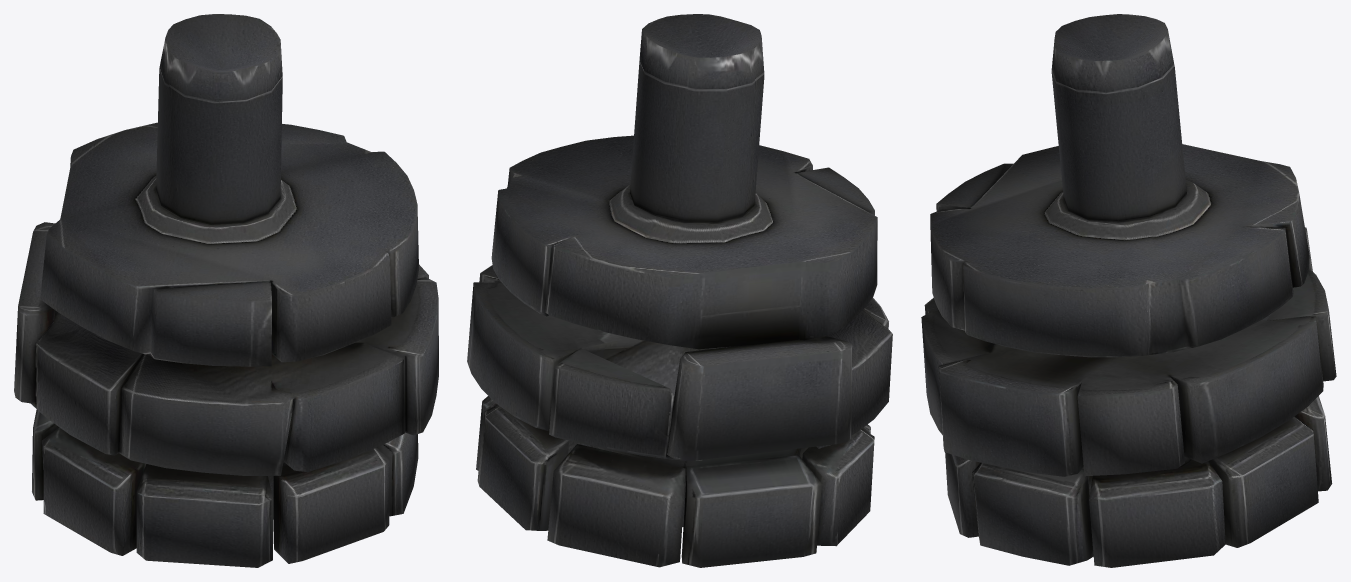
Rendered from cold-iron-v2-propulsion-a-compact.glb.
3 renders of one model, left to right at view 1: azimuth 30°, elevation 25°; view 2: azimuth 150°, elevation 25°; view 3: azimuth 270°, elevation 25°, orthographic.
Parts seen in each view (by area): view 1: tripo_node_b421f891-f319-44b9-8667-f3d96d0caeb6; view 2: tripo_node_b421f891-f319-44b9-8667-f3d96d0caeb6; view 3: tripo_node_b421f891-f319-44b9-8667-f3d96d0caeb6.
Part boxes in pixels (box(x1,y1,x2,y2)): tripo_node_b421f891-f319-44b9-8667-f3d96d0caeb6: box(14, 14, 438, 567); tripo_node_b421f891-f319-44b9-8667-f3d96d0caeb6: box(467, 14, 892, 567); tripo_node_b421f891-f319-44b9-8667-f3d96d0caeb6: box(921, 14, 1336, 567).
Size of the model in its own units: 0.8562 by 1.03 by 0.8289.
Materials: 1 (1 with a texture image).
